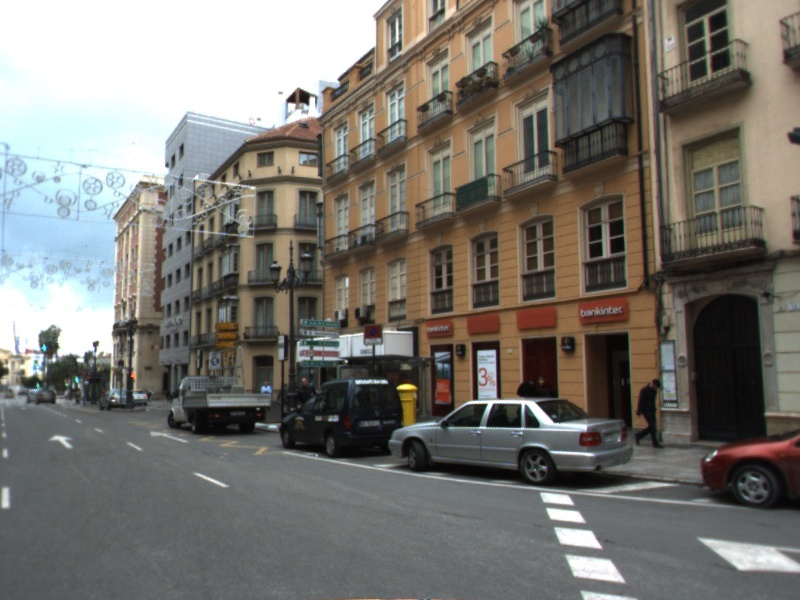STRAIGHT: (148, 428, 192, 444), (46, 432, 77, 451)
